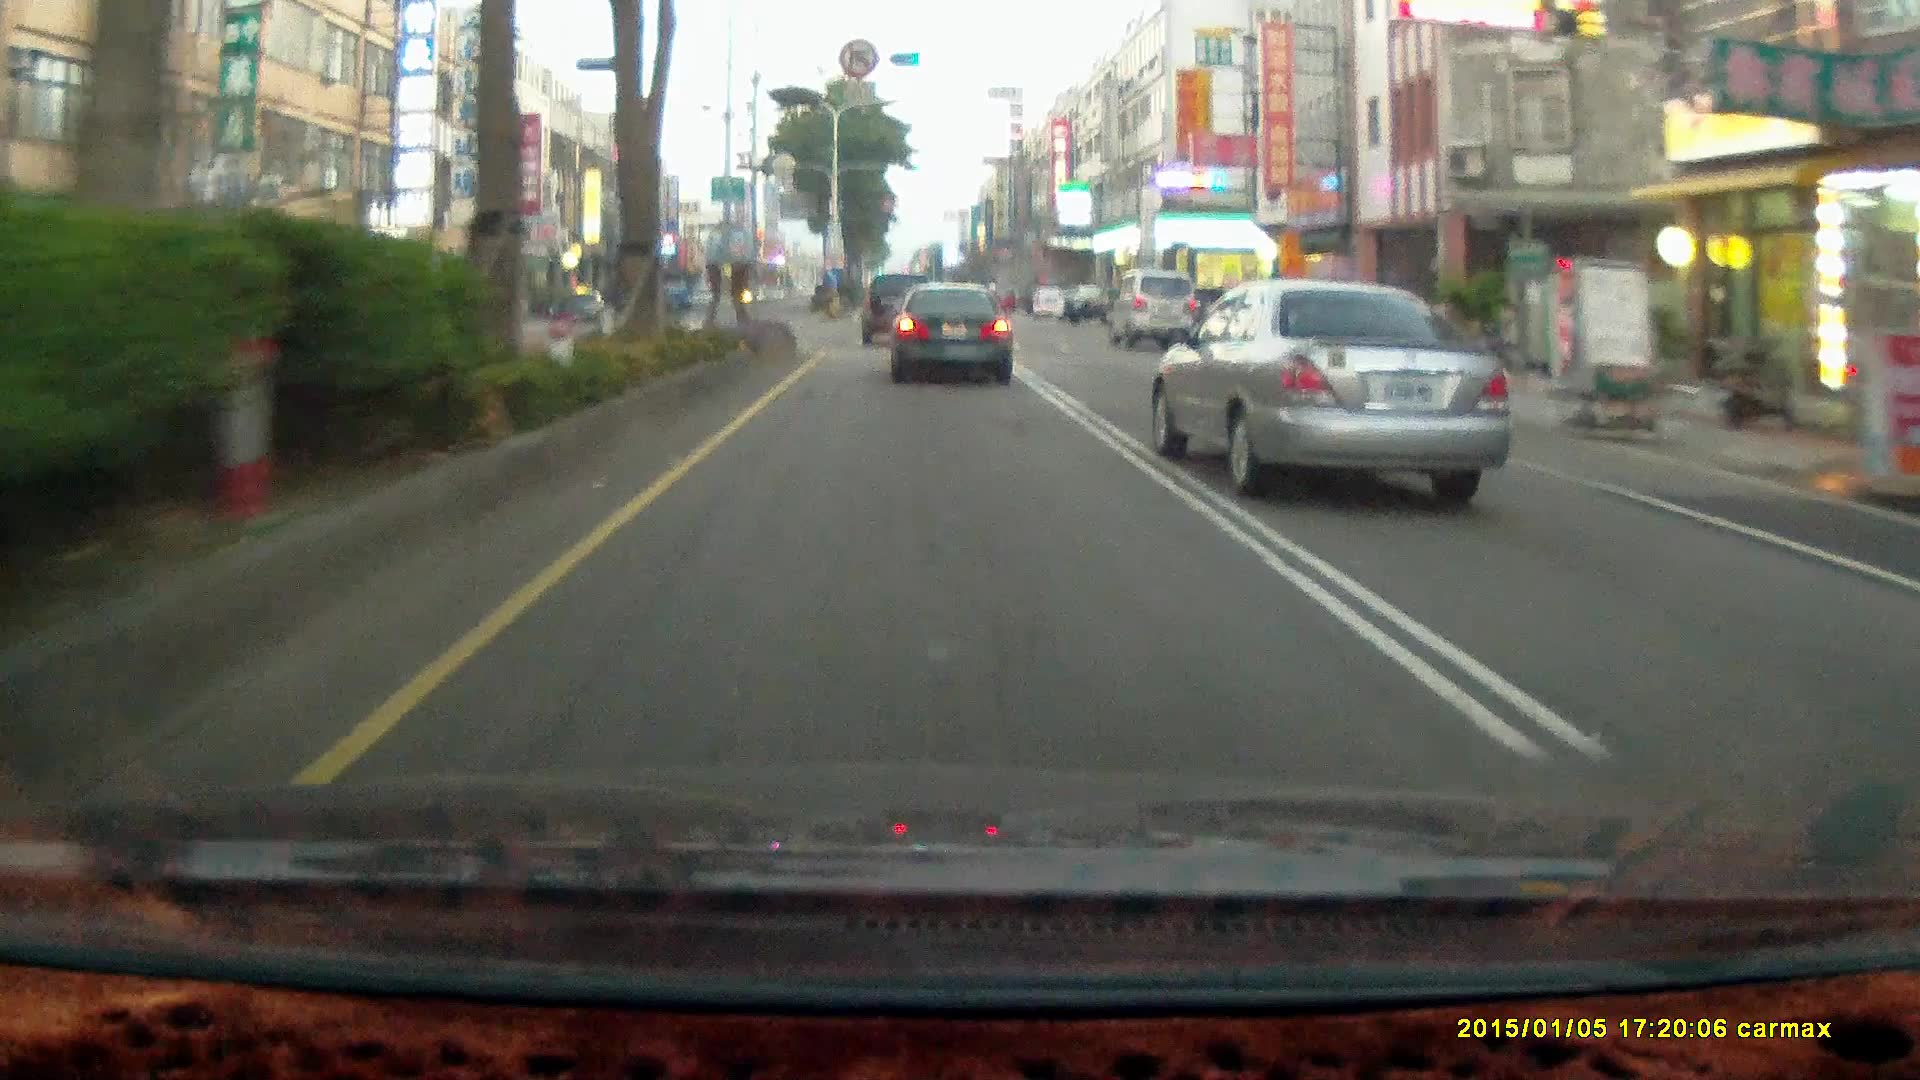vehicle: (1154, 284, 1520, 500), (891, 284, 1017, 388), (890, 282, 1011, 384), (1108, 270, 1197, 355), (1108, 269, 1197, 352), (861, 274, 940, 352), (861, 272, 938, 345), (1064, 284, 1131, 324), (560, 293, 607, 323), (1031, 286, 1069, 318)
